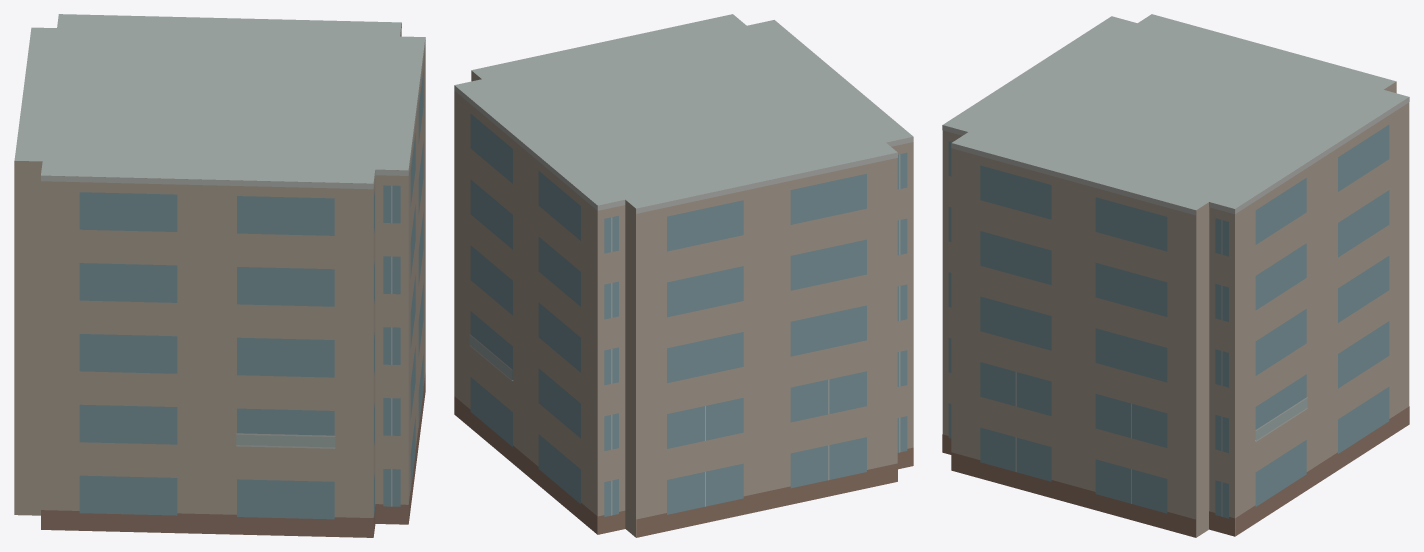
File: survey-upis-32795565.glb
3 renders of one model, left to right at view 1: azimuth 30°, elevation 25°; view 2: azimuth 150°, elevation 25°; view 3: azimuth 270°, elevation 25°, orthographic. The views are drawn at different scales.
Parts seen in each view (by area): view 1: survey-upis-32795565.tmp; view 2: survey-upis-32795565.tmp; view 3: survey-upis-32795565.tmp.
Boxes of the visible parts, left/top/right/bottom form: survey-upis-32795565.tmp: left=14, top=14, right=425, bottom=537; survey-upis-32795565.tmp: left=454, top=14, right=913, bottom=537; survey-upis-32795565.tmp: left=942, top=14, right=1409, bottom=537.
Size of the model in its own units: 19.61 by 15.25 by 19.71.
